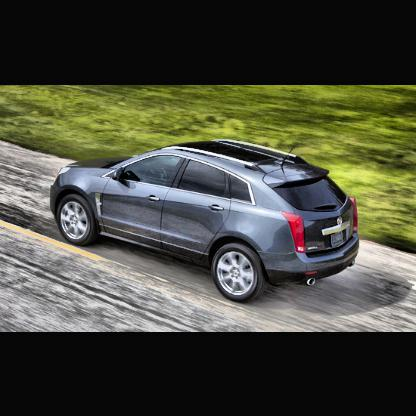Cadillac SRX SUV 2012: (51, 138, 362, 306)
